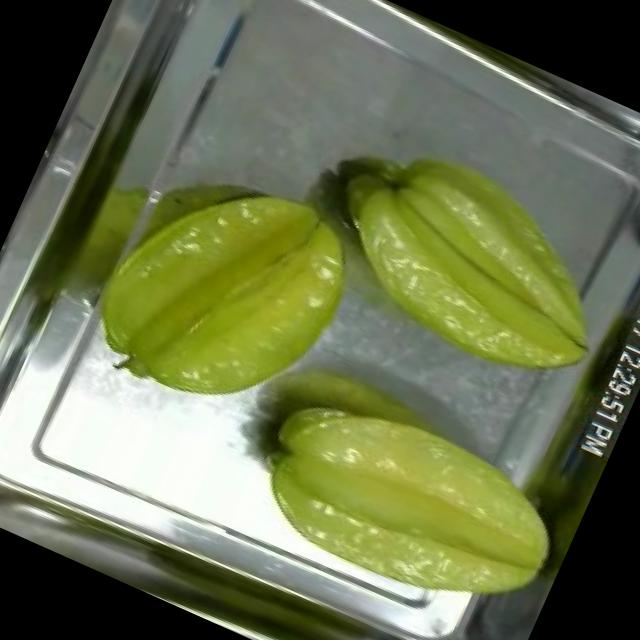fruit: (66, 125, 390, 452), (225, 353, 594, 640), (292, 108, 640, 411)
